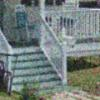stairs: (0, 45, 64, 93)
